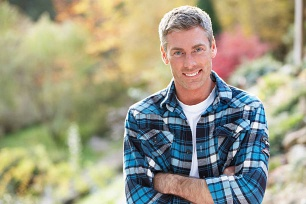male: (160, 20, 218, 90)
